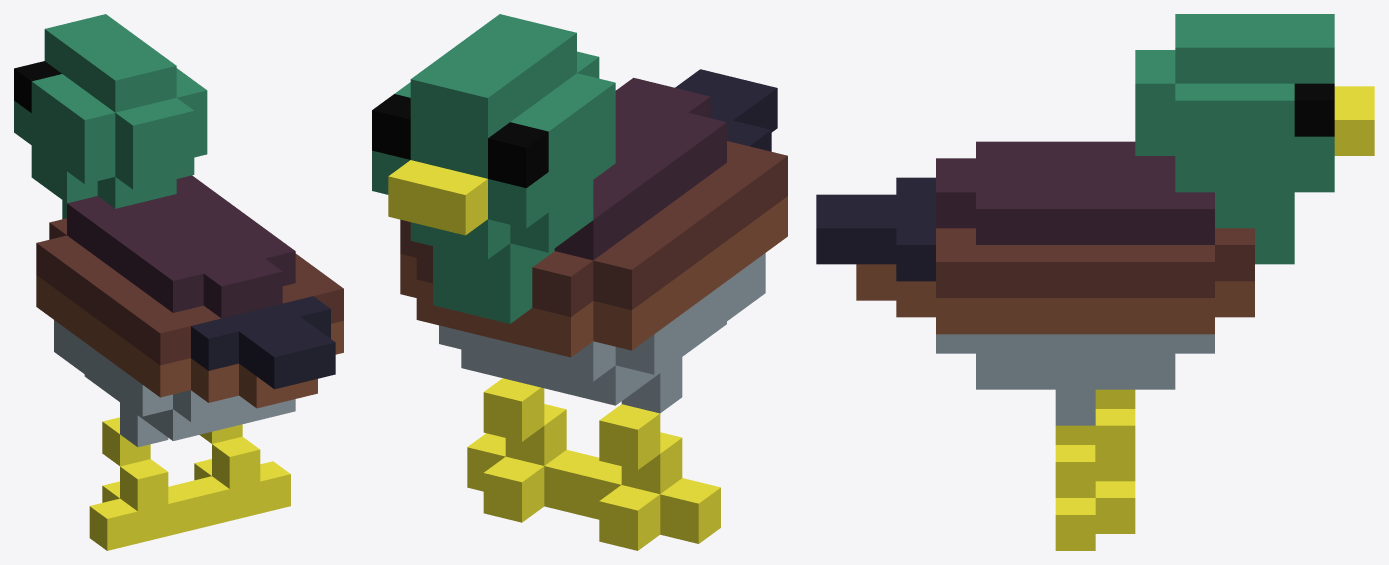
The model's file is duck1.gltf.
The picture shows the model from 3 angles, left to right: view 1: azimuth 30°, elevation 25°; view 2: azimuth 150°, elevation 25°; view 3: azimuth 270°, elevation 25°; orthographic projection. The views are drawn at different scales.
Size of the model in its own units: 6 by 13 by 14.
1 material, 1 textured.
